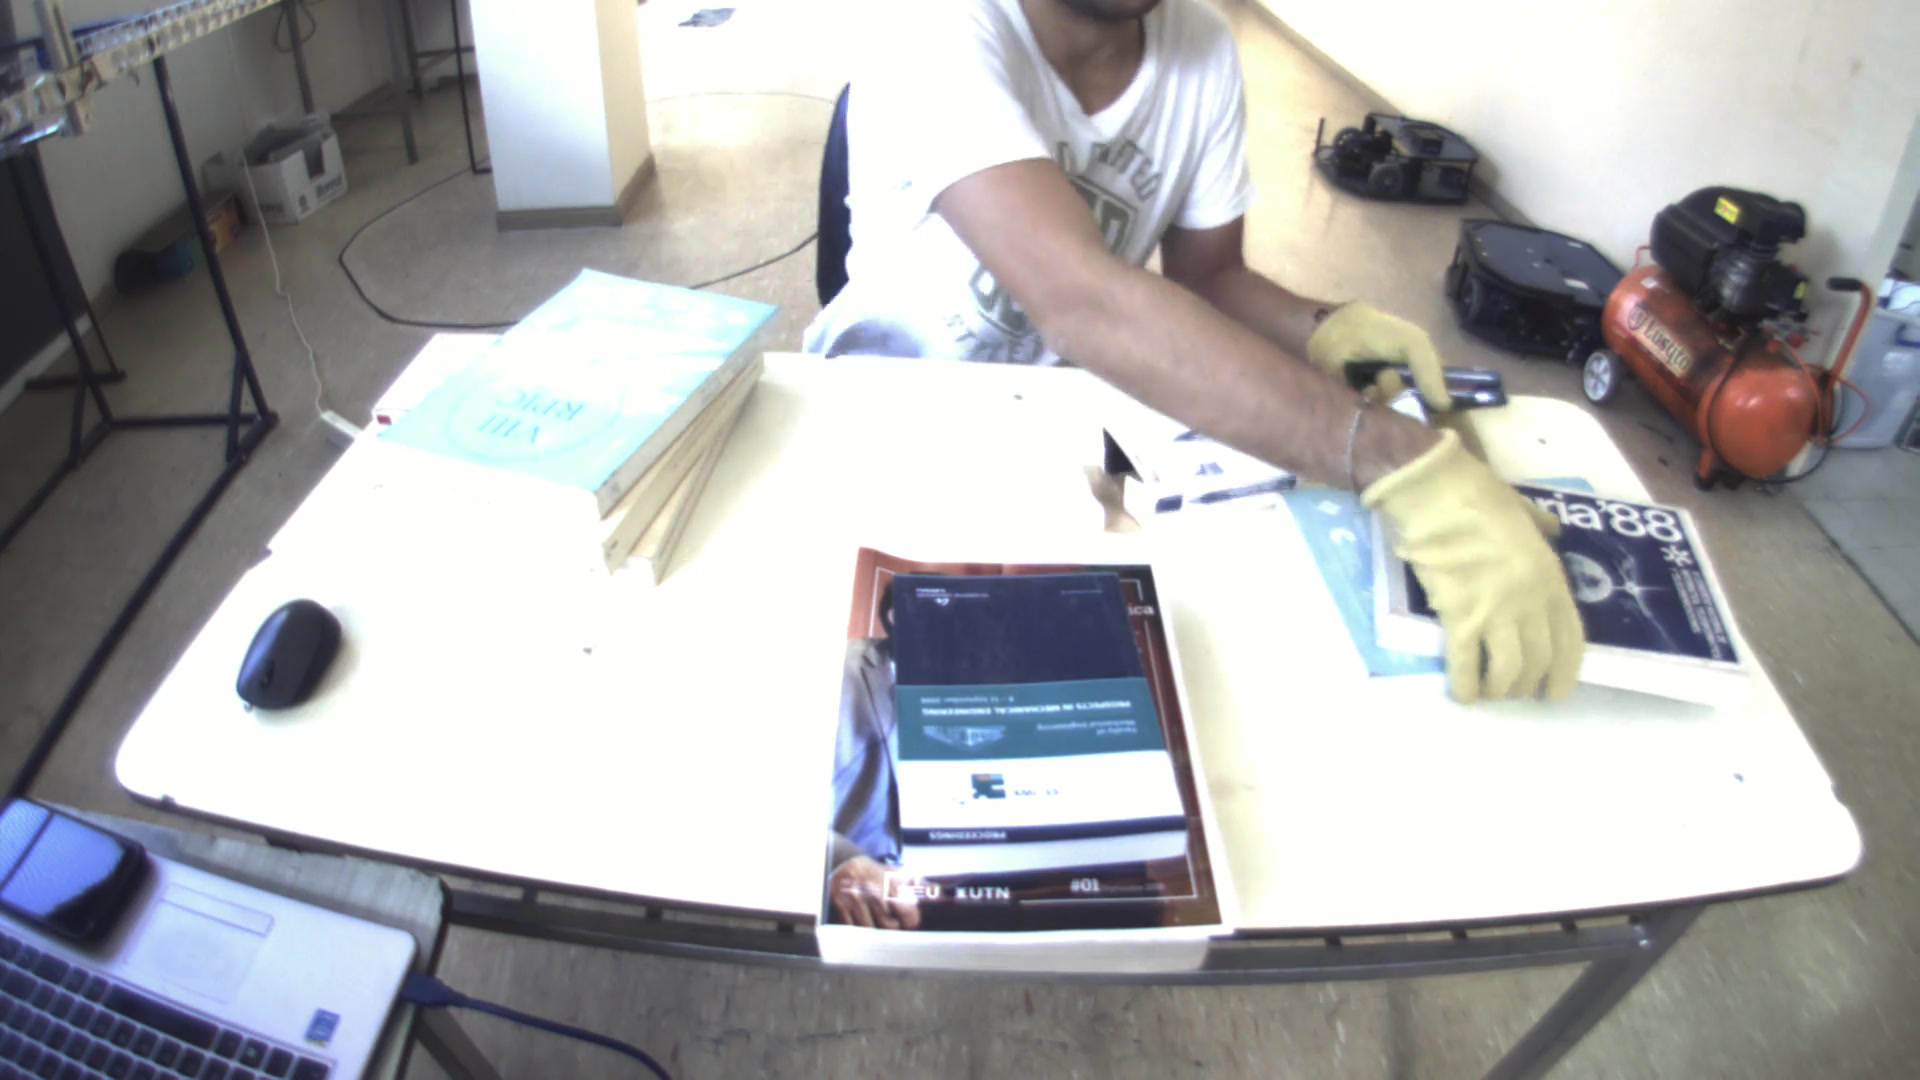hand: (1362, 430, 1600, 709), (1302, 287, 1465, 401)
